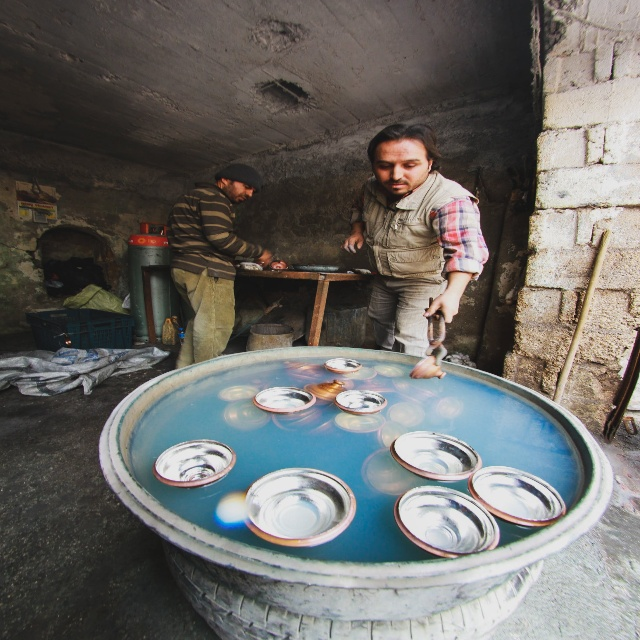Sin_guantes: (424, 294, 460, 320), (339, 233, 365, 251), (259, 249, 272, 267)
